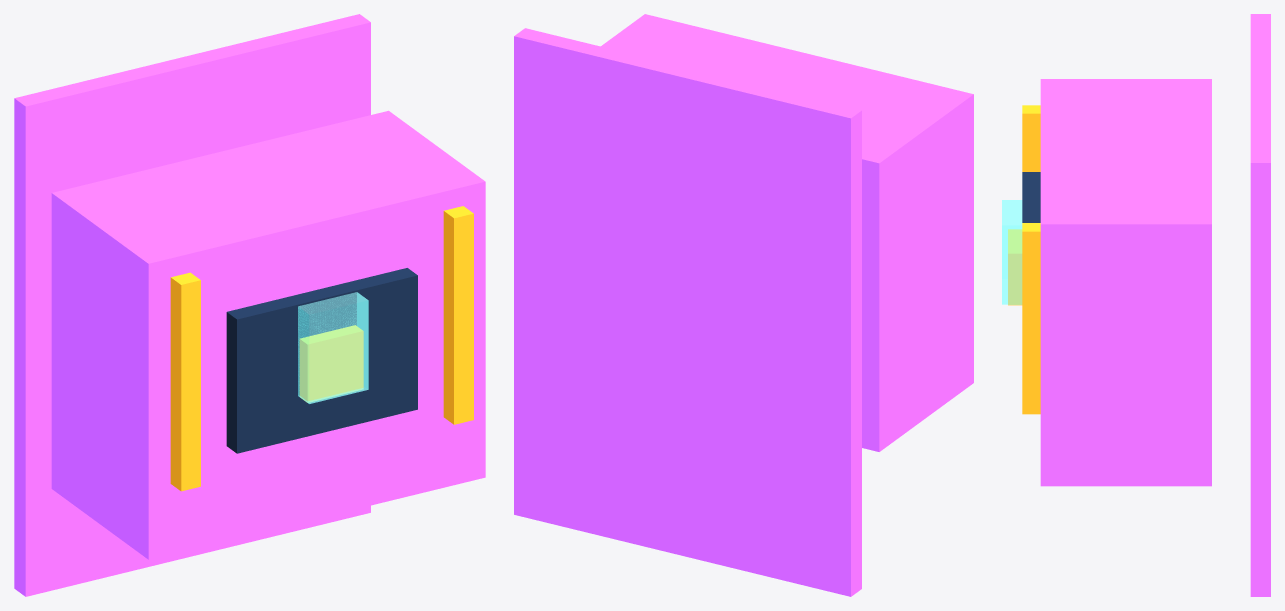
The model's file is mystic-arcane.glb.
3 renders of one model, left to right at view 1: azimuth 30°, elevation 25°; view 2: azimuth 150°, elevation 25°; view 3: azimuth 270°, elevation 25°, orthographic. The views are drawn at different scales.
Visible parts, largest first — view 1: Torso, Cape, Panel, Gem, StripeL, StripeR, Core; view 2: Cape, Torso; view 3: Torso, Cape, StripeR, Gem, StripeL, Core, Panel.
Boxes of the visible parts, x1,y1,x2,y2 form: Torso: (51,110,485,559); Cape: (14,14,370,596); Panel: (226,268,417,453); Gem: (298,292,368,403); StripeL: (170,272,200,491); StripeR: (443,206,473,424); Core: (299,325,363,402); Cape: (514,28,861,596); Torso: (601,14,973,451); Torso: (1040,79,1211,486); Cape: (1250,14,1270,596); StripeR: (1022,223,1040,414); Gem: (1002,200,1022,304); StripeL: (1022,105,1040,171); Core: (1008,229,1022,305); Panel: (1022,172,1040,222).
Size of the model in its own units: 2.1 by 2.85 by 1.6.
